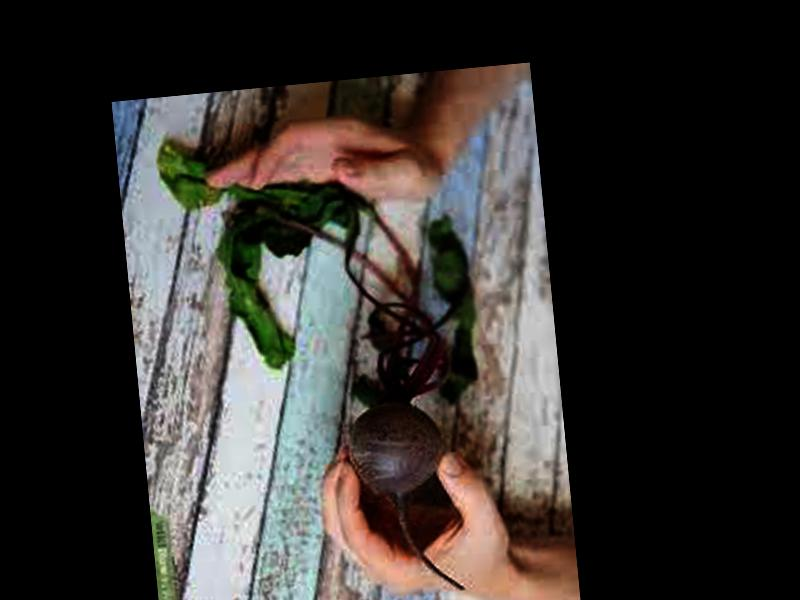Beet: (156, 115, 498, 600)
